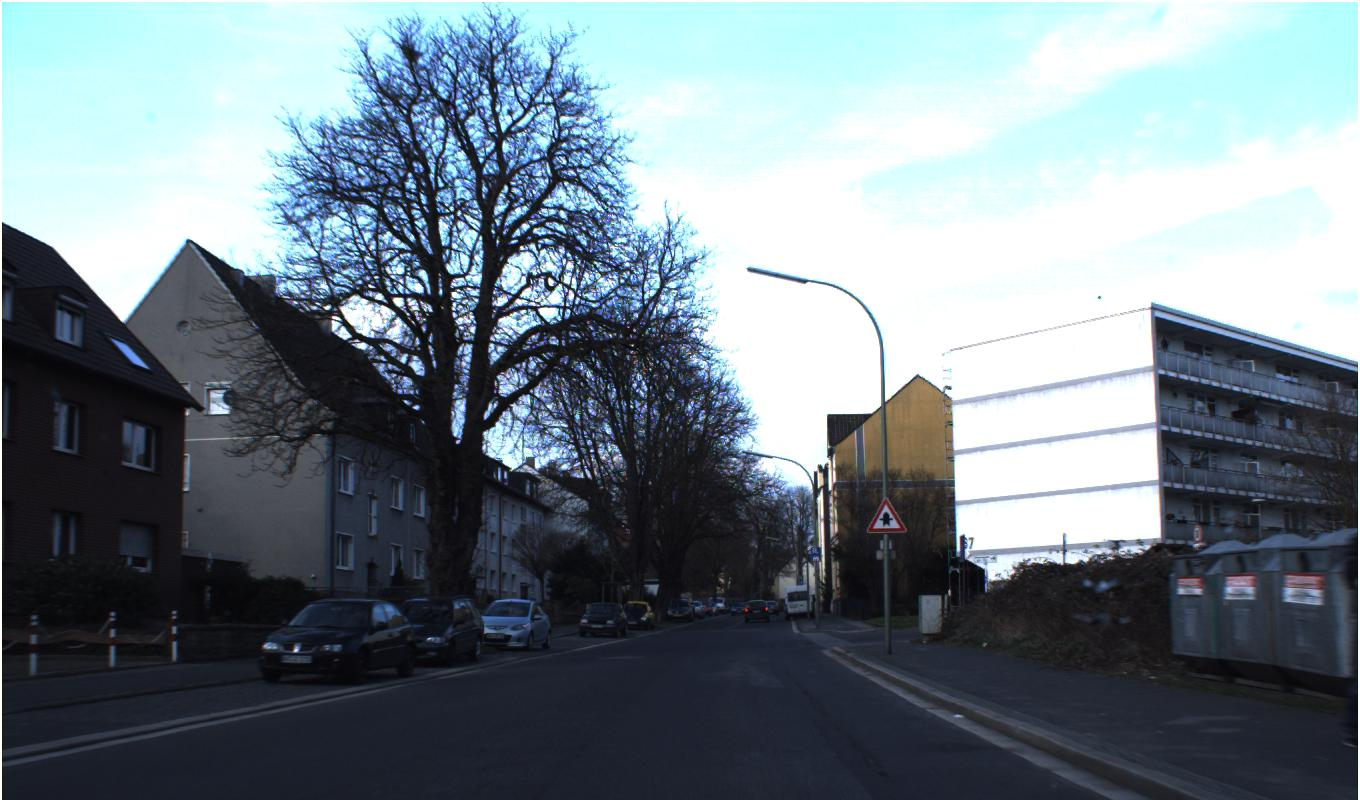danger: (865, 495, 908, 534)
